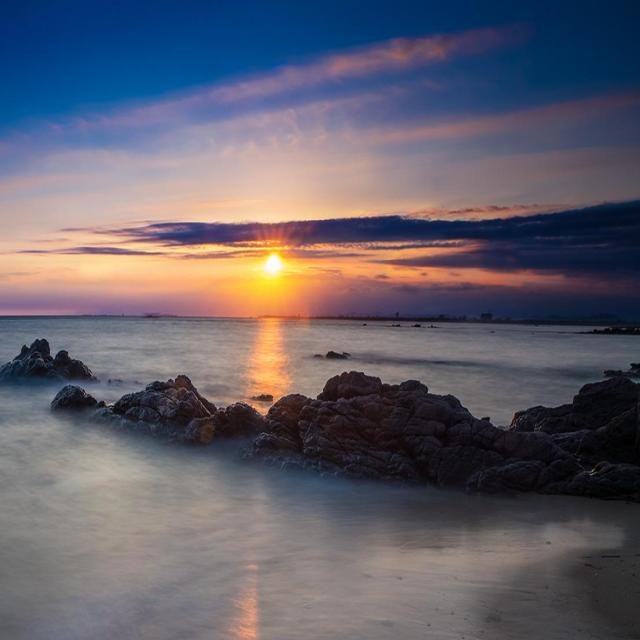reef: (21, 322, 640, 560)
